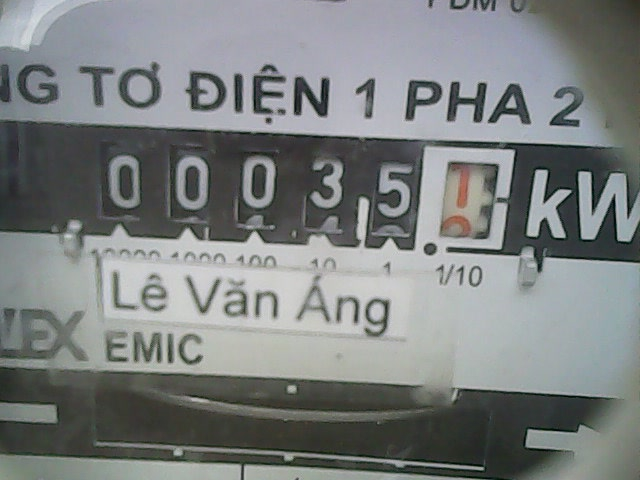phy_plate: (85, 122, 519, 258)
